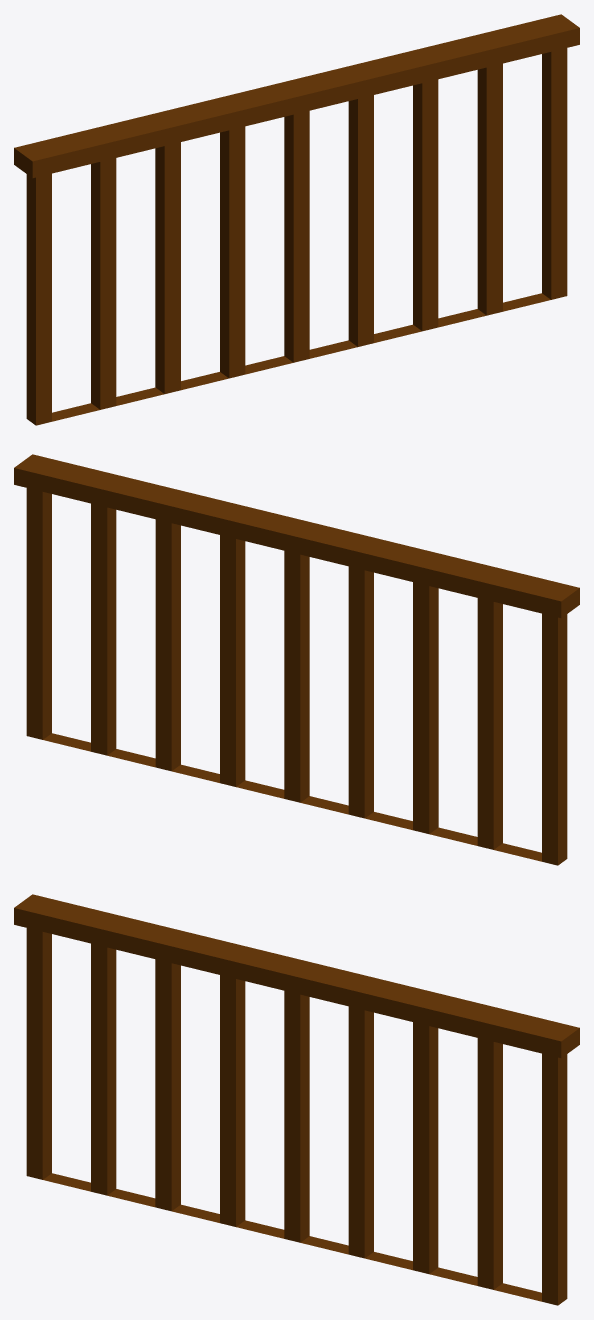
Rendered from Fence.dae.
3 renders of one model, top to bottom at view 1: azimuth 30°, elevation 25°; view 2: azimuth 150°, elevation 25°; view 3: azimuth 330°, elevation 25°, orthographic.
Parts seen in each view (by area): view 1: SketchUp (×2); view 2: SketchUp (×2); view 3: SketchUp (×2).
Part boxes in pixels (box(x1,y1,x2,y2)): SketchUp (×2): box(14, 14, 579, 425); SketchUp (×2): box(14, 454, 579, 865); SketchUp (×2): box(14, 894, 579, 1305).
Bounding box in the file's own units: 134 × 7.87 × 62.99.
